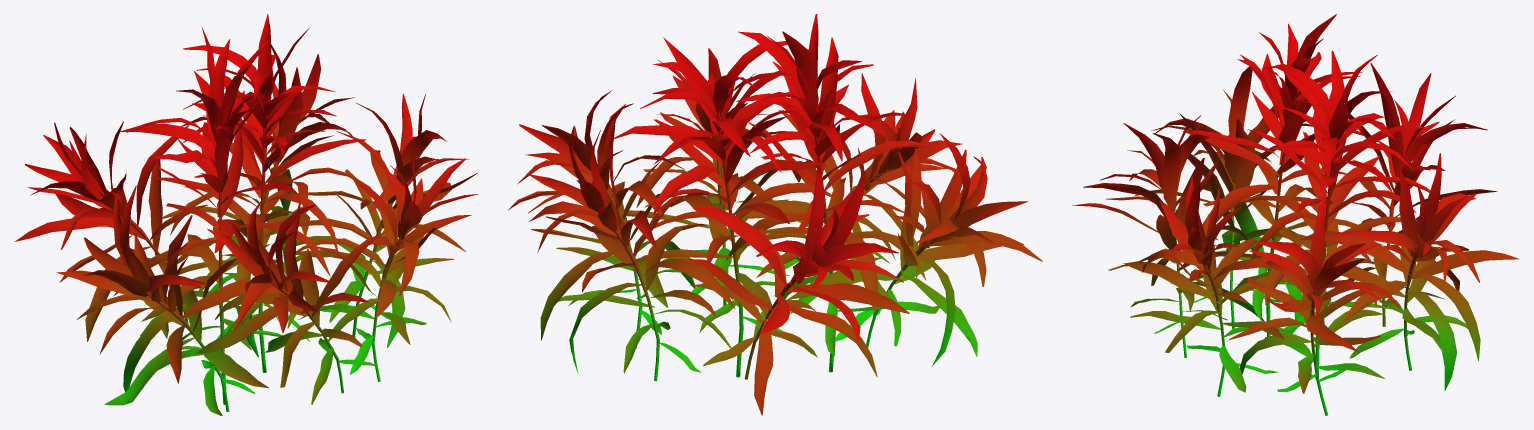
The model's file is Butterfly Weed_LOD1_Var2.fbx.
3 views of the same model, side by side, from view 1: azimuth 30°, elevation 25°; view 2: azimuth 150°, elevation 25°; view 3: azimuth 270°, elevation 25° (orthographic). The views are drawn at different scales.
Parts seen in each view (by area): view 1: _sww6_Var2_LOD1; view 2: _sww6_Var2_LOD1; view 3: _sww6_Var2_LOD1.
Boxes of the visible parts, x1=… form: _sww6_Var2_LOD1: x1=14, y1=14, x2=478, y2=415; _sww6_Var2_LOD1: x1=508, y1=14, x2=1042, y2=415; _sww6_Var2_LOD1: x1=1072, y1=14, x2=1518, y2=415.
Bounding box in the file's own units: 83.48 × 64.61 × 77.15.
